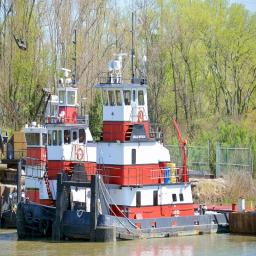tugboat: (51, 50, 249, 249)
